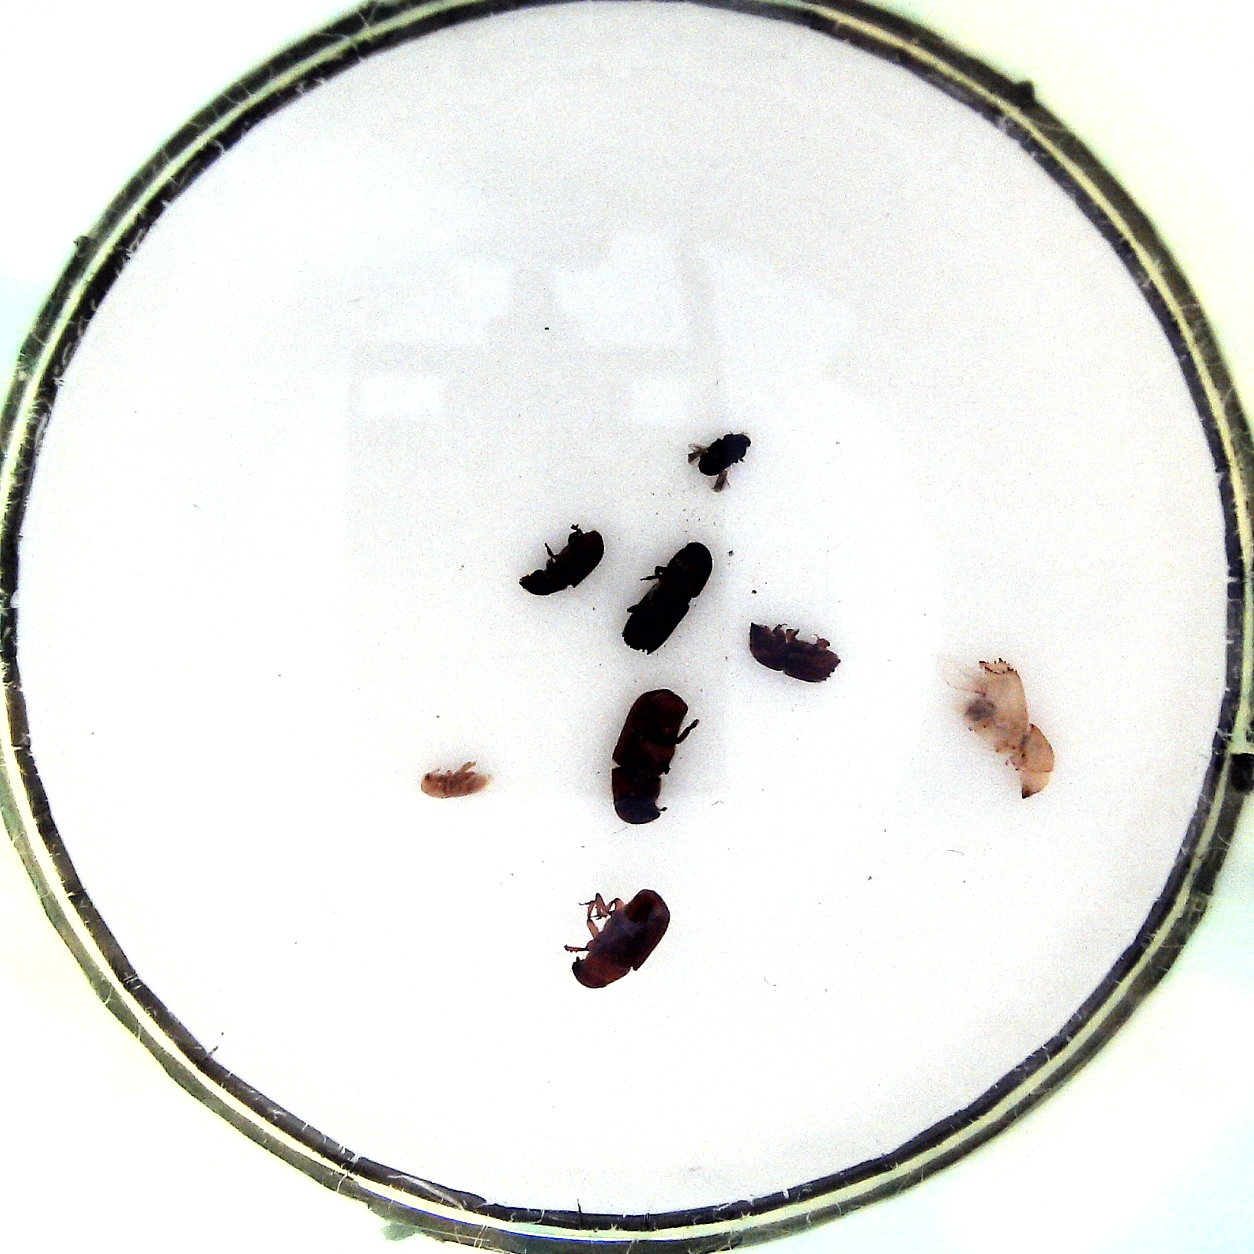Boerner: (943, 655, 1059, 802), (617, 537, 718, 656)
Leconte: (605, 683, 702, 829), (559, 883, 676, 989)
Linnaeus: (743, 616, 843, 686)
acuminatus: (412, 760, 494, 802)
armandi: (514, 517, 607, 601)
coleoptera: (684, 429, 756, 497)
